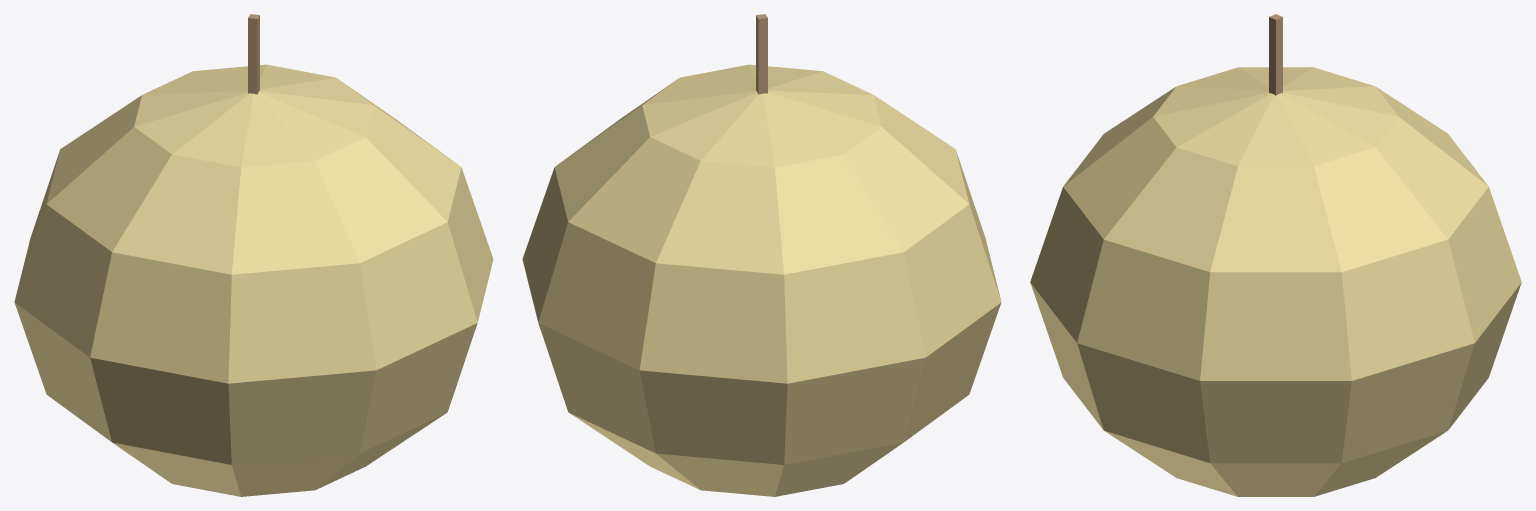
Rendered from hay_pile.glb.
The picture shows the model from 3 angles, left to right: view 1: azimuth 30°, elevation 25°; view 2: azimuth 150°, elevation 25°; view 3: azimuth 270°, elevation 25°; orthographic projection.
Visible parts, largest first — view 1: hay_pile; view 2: hay_pile; view 3: hay_pile.
Part boxes in pixels (<box>): hay_pile: <box>14,14,493,496</box>; hay_pile: <box>522,14,1001,496</box>; hay_pile: <box>1030,14,1521,496</box>.
Bounding box in the file's own units: 3.99 × 4.3 × 4.2.
